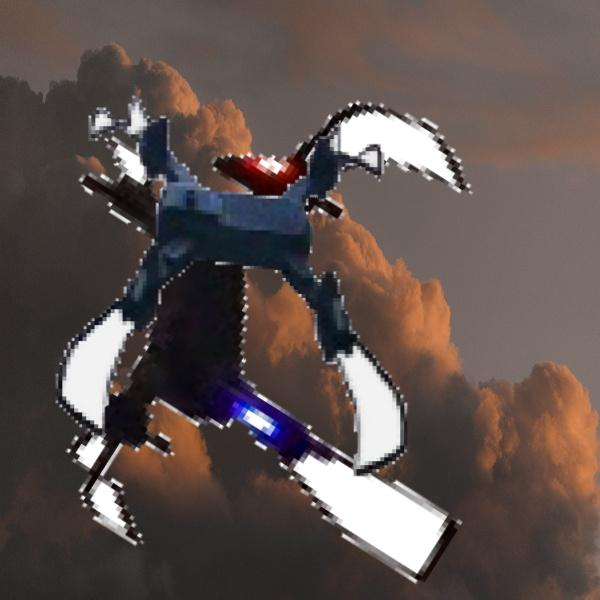drone: (2, 61, 538, 597), (44, 84, 442, 482)
